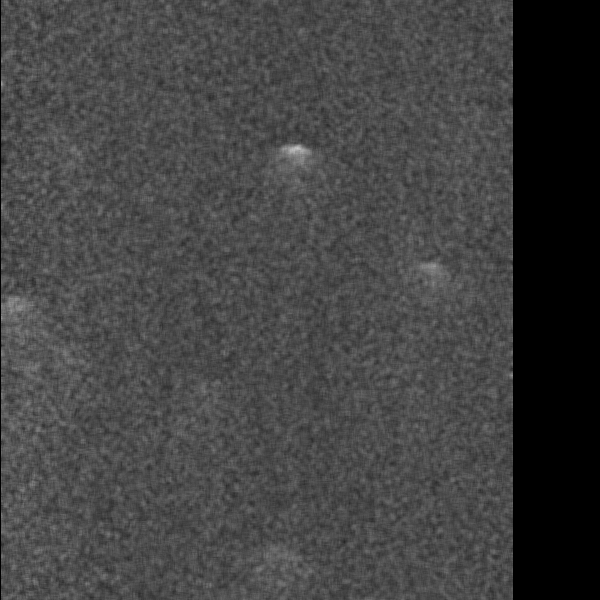spark: (410, 253, 445, 301), (276, 139, 308, 180), (2, 298, 35, 319)
